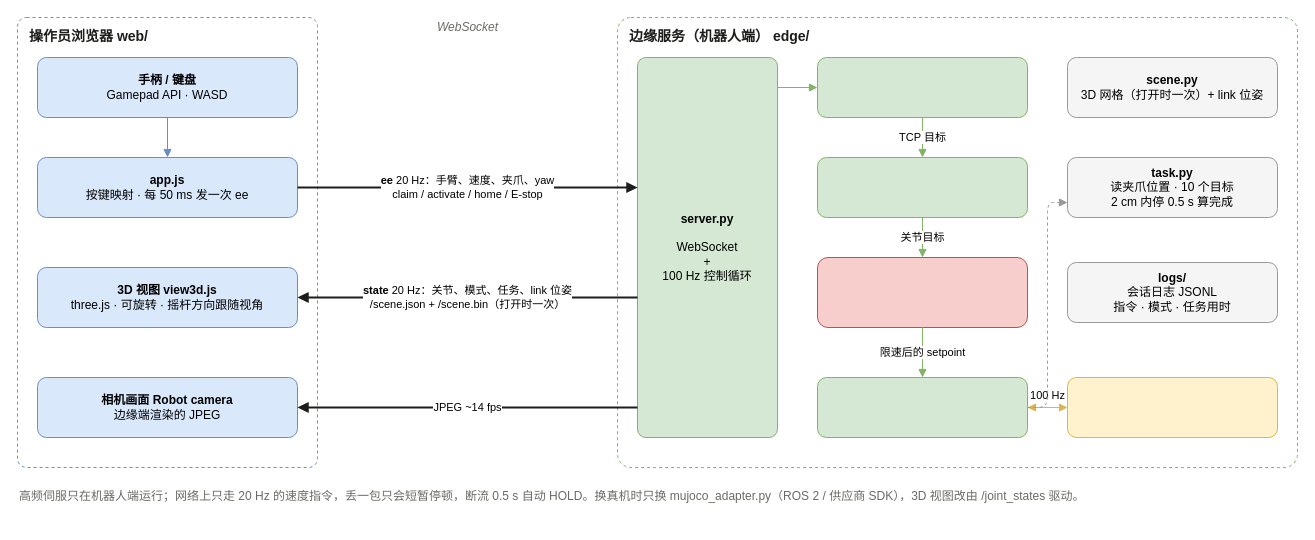
The diagram is 1315 pixels wide and 540 high, and some of its shapes have lost their labels. The centre of each missing label's shape, as x and y in pixels:
ik.py 只解位置的 IK（不控手腕姿态）: the point at 922,187
MuJoCo 物理 OpenArm v1 双臂 · 16 个执行器: the point at 1172,407
mujoco_adapter.py 读状态 · 写目标 · 渲染相机: the point at 922,407
safety.py 限位 · 限速 1 rad/s 0.5 s 看门狗 → HOLD · E-stop: the point at 922,292
teleop.py 速度积分成夹爪目标 ≤ 0.15 m/s: the point at 922,87
